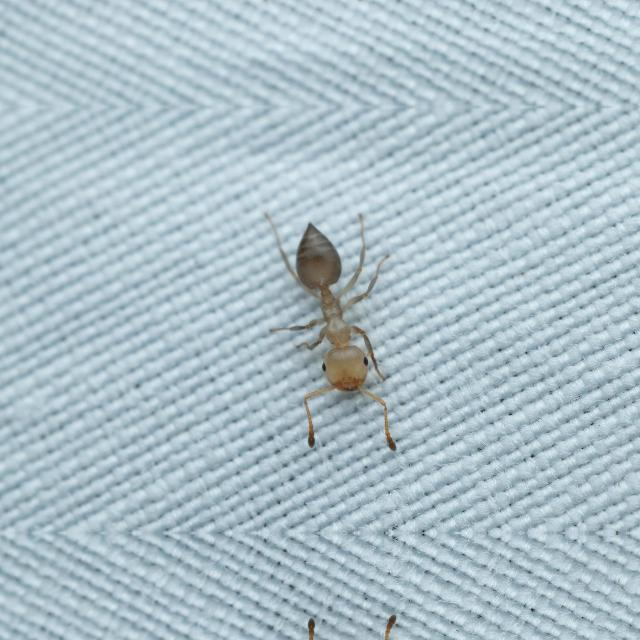Crematogaster: (274, 210, 374, 406)
